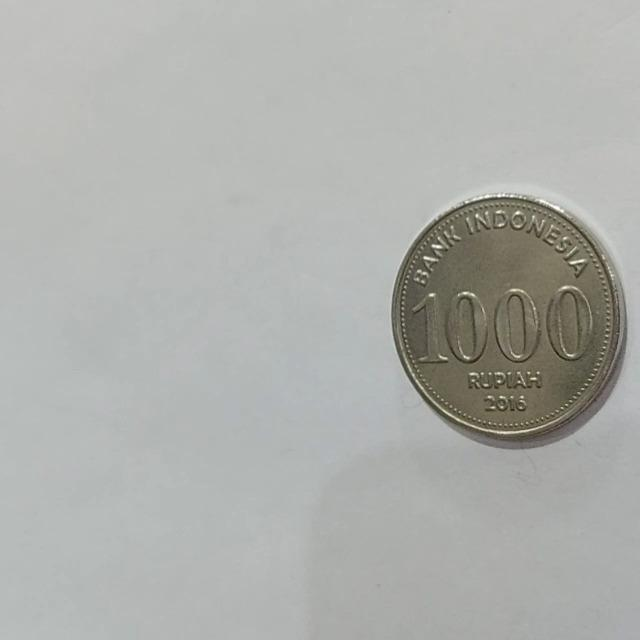Rp100: (388, 189, 627, 448)
